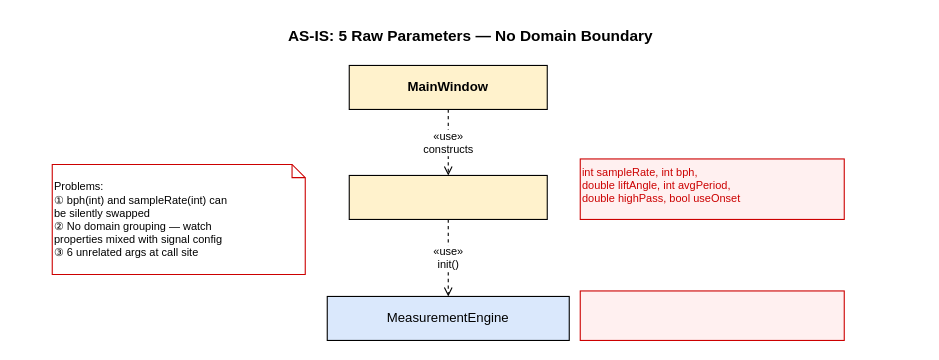
Image size: 939x360. Some labels were removed from this diagram. The centre of each missing label's shape, as x and y in pixels:
DSPWorker: [447,196]
init(int, int, double, int, double) — compiler cannot catch wrong order: [711,315]
